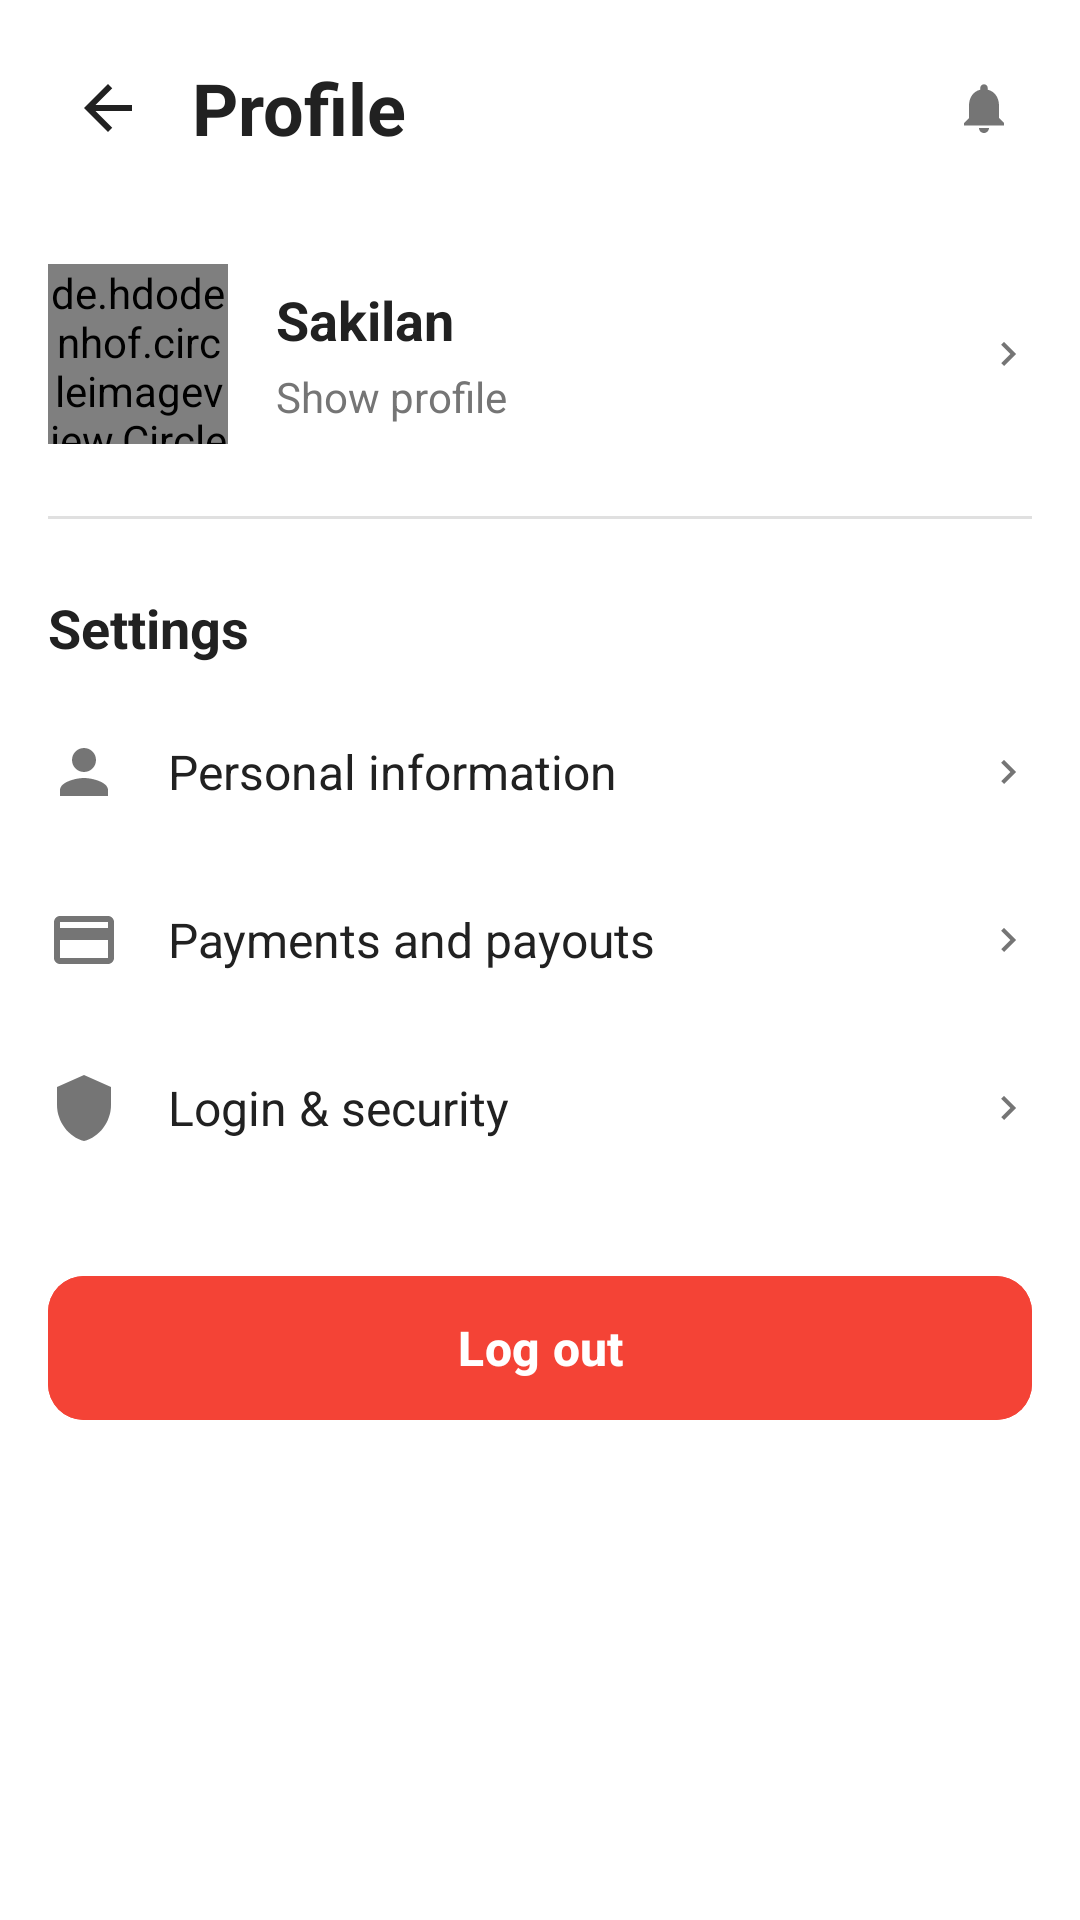

Screen size 1080px x 1920px. Icon name, then its center in pixels as point (x, y):
Back: point (108, 108)
Go to payments: point (1008, 940)
Go to profile details: point (1008, 354)
Go to security: point (1008, 1108)
Notifications: point (984, 108)
